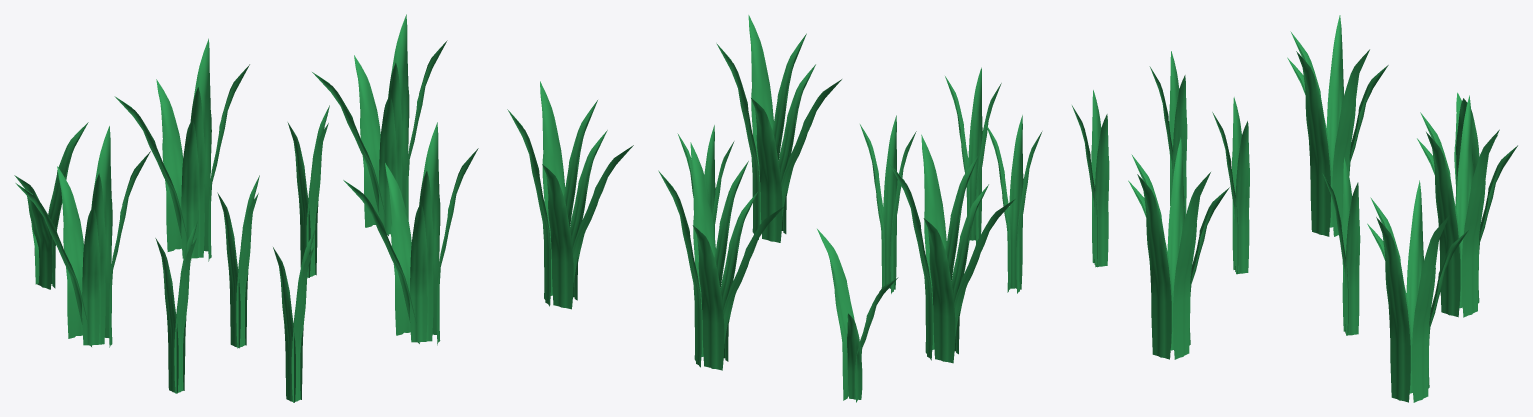
File: grass2.fbx
3 views of the same model, side by side, from view 1: azimuth 30°, elevation 25°; view 2: azimuth 150°, elevation 25°; view 3: azimuth 270°, elevation 25° (orthographic).
Parts seen in each view (by area): view 1: grass, grass42, grass19, grass20, grass41, grass30, grass4, grass29, grass2, grass40, grass24, grass28 (+24 smaller); view 2: grass42, grass, grass30, grass19, grass37, grass3, grass17, grass22, grass25, grass14, grass8, grass35 (+25 smaller); view 3: grass22, grass25, grass37, grass3, grass24, grass2, grass28, grass40, grass15, grass34, grass31, grass38 (+20 smaller).
Boxes of the visible parts, <box> form: grass: <box>156,79,183,251</box>; grass42: <box>57,166,83,338</box>; grass19: <box>385,163,411,335</box>; grass20: <box>409,203,427,342</box>; grass41: <box>82,206,99,345</box>; grass30: <box>354,55,380,227</box>; grass4: <box>181,119,198,258</box>; grass29: <box>378,95,396,234</box>; grass2: <box>190,38,211,251</box>; grass40: <box>91,126,112,337</box>; grass24: <box>419,122,440,334</box>; grass28: <box>388,14,409,207</box>; grass42: <box>923,218,955,363</box>; grass: <box>692,225,724,370</box>; grass30: <box>542,164,573,309</box>; grass19: <box>751,98,782,242</box>; grass37: <box>921,134,946,349</box>; grass3: <box>690,142,715,356</box>; grass17: <box>1009,115,1023,289</box>; grass22: <box>748,15,773,224</box>; grass25: <box>540,81,565,295</box>; grass14: <box>883,115,897,289</box>; grass8: <box>817,229,854,400</box>; grass35: <box>968,67,982,240</box>; grass22: <box>1137,174,1171,359</box>; grass25: <box>1376,217,1410,402</box>; grass37: <box>1296,51,1330,236</box>; grass3: <box>1426,132,1460,317</box>; grass24: <box>1173,172,1210,359</box>; grass2: <box>1461,129,1499,317</box>; grass28: <box>1412,215,1449,402</box>; grass40: <box>1332,49,1369,236</box>; grass15: <box>1234,121,1249,274</box>; grass34: <box>1094,114,1109,267</box>; grass31: <box>1345,182,1360,335</box>; grass38: <box>1326,15,1343,227</box>.
Size of the model in its own units: 10.04 by 4.18 by 8.54.
